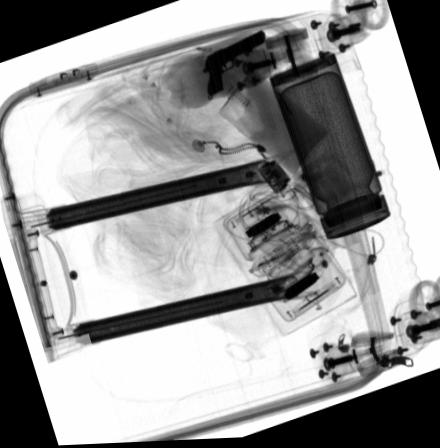Gun: (201, 30, 264, 99)
